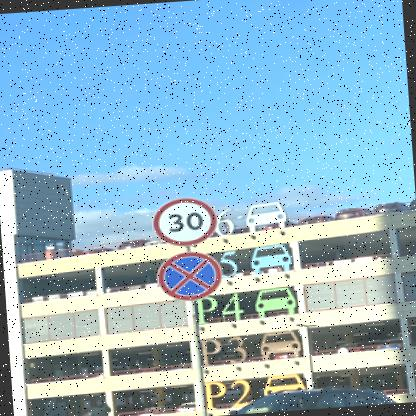speedlimit: (149, 194, 217, 247)
